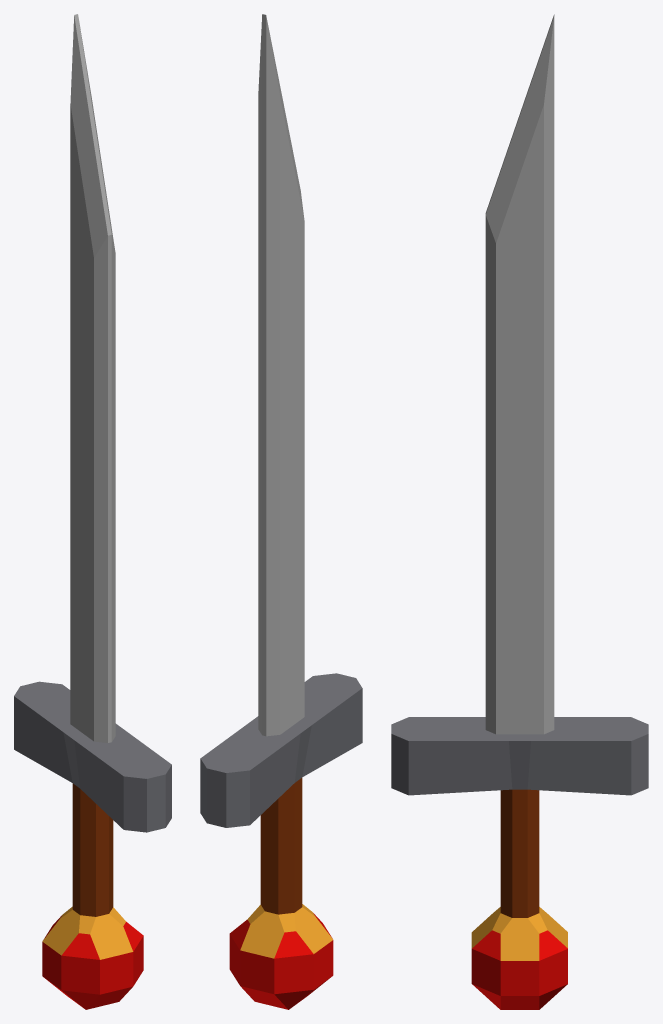
The model's file is sword.fbx.
3 renders of one model, left to right at view 1: azimuth 30°, elevation 25°; view 2: azimuth 150°, elevation 25°; view 3: azimuth 270°, elevation 25°, orthographic. The views are drawn at different scales.
Visible parts, largest first — view 1: Cube; view 2: Cube; view 3: Cube.
Part boxes in pixels (bbox=[...]): Cube: bbox=[14, 14, 171, 1009]; Cube: bbox=[200, 14, 362, 1009]; Cube: bbox=[391, 14, 648, 1009].
Bounding box in the file's own units: 43.95 × 497 × 117.
